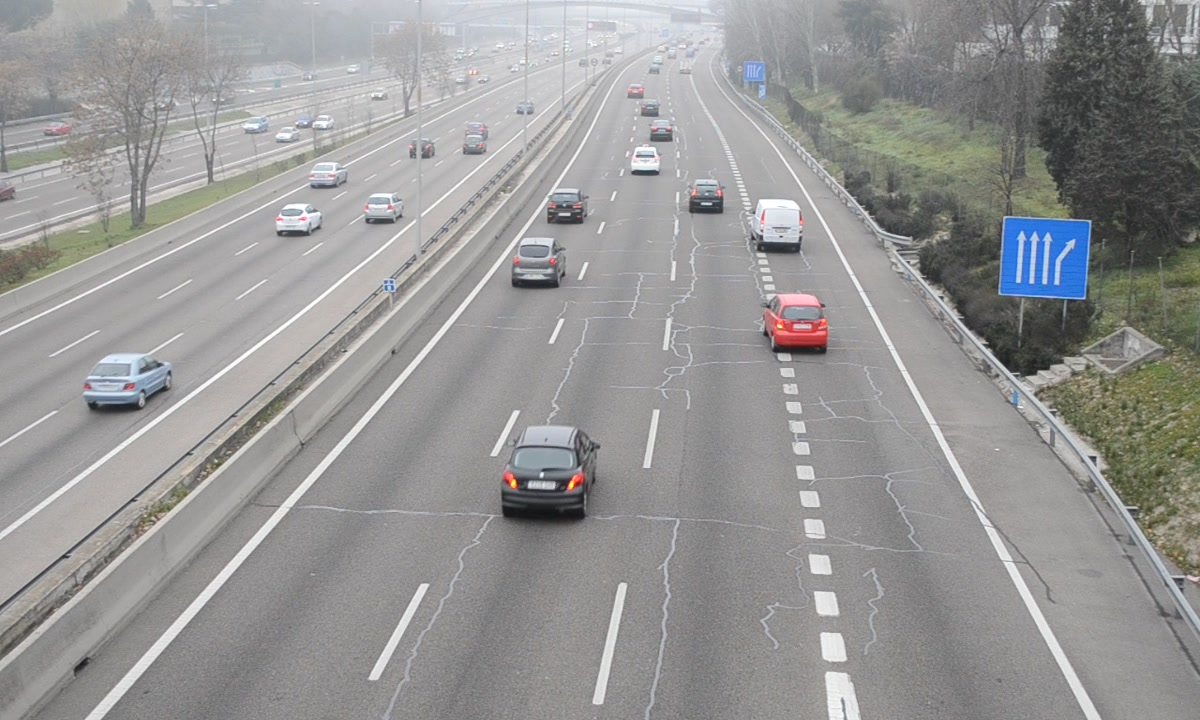car: (501, 426, 594, 515), (765, 292, 829, 352), (511, 237, 565, 283), (546, 189, 587, 224), (688, 179, 726, 214), (628, 143, 662, 174), (653, 117, 676, 140)
van: (749, 197, 804, 254)
